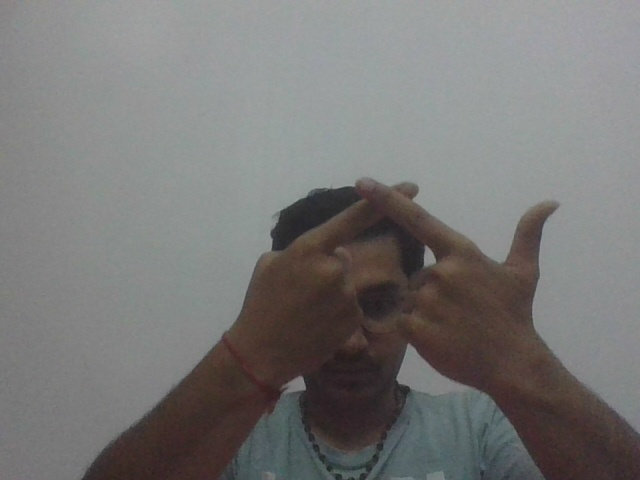J: (268, 170, 564, 371)
